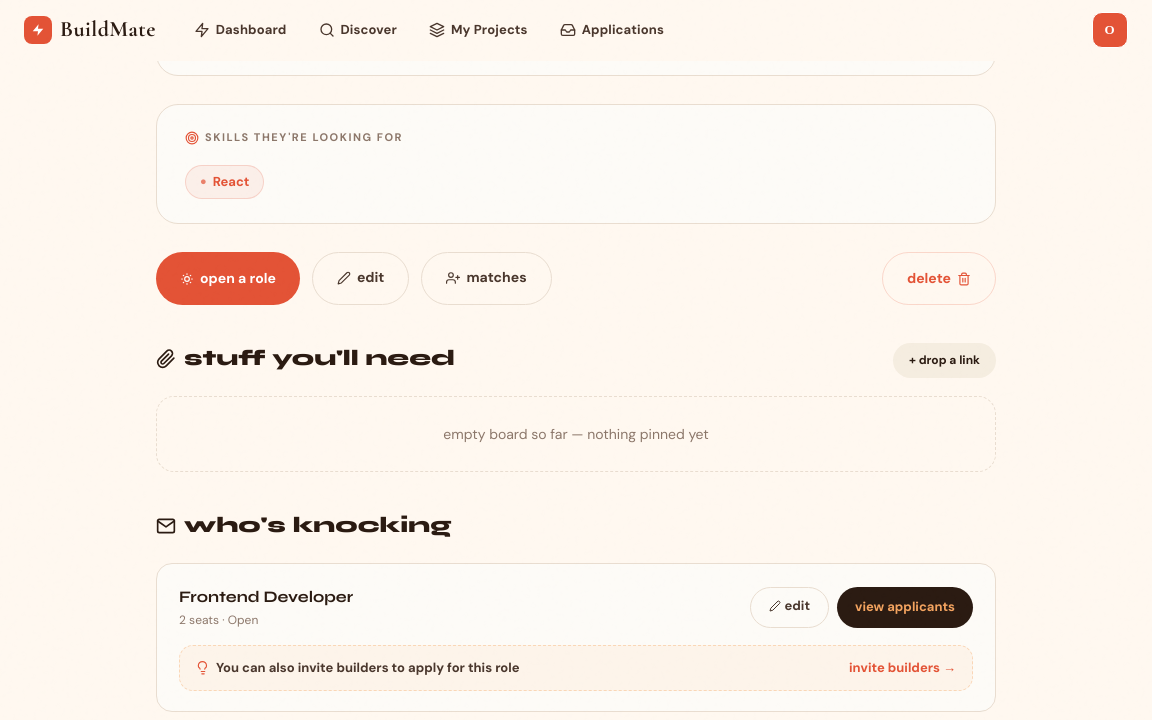
Test: Resource Board › opens add resource form
The image size is (1152, 720).
(page scrolled)
Click the button "+ drop a link": x=944, y=360 [893,343,996,378]
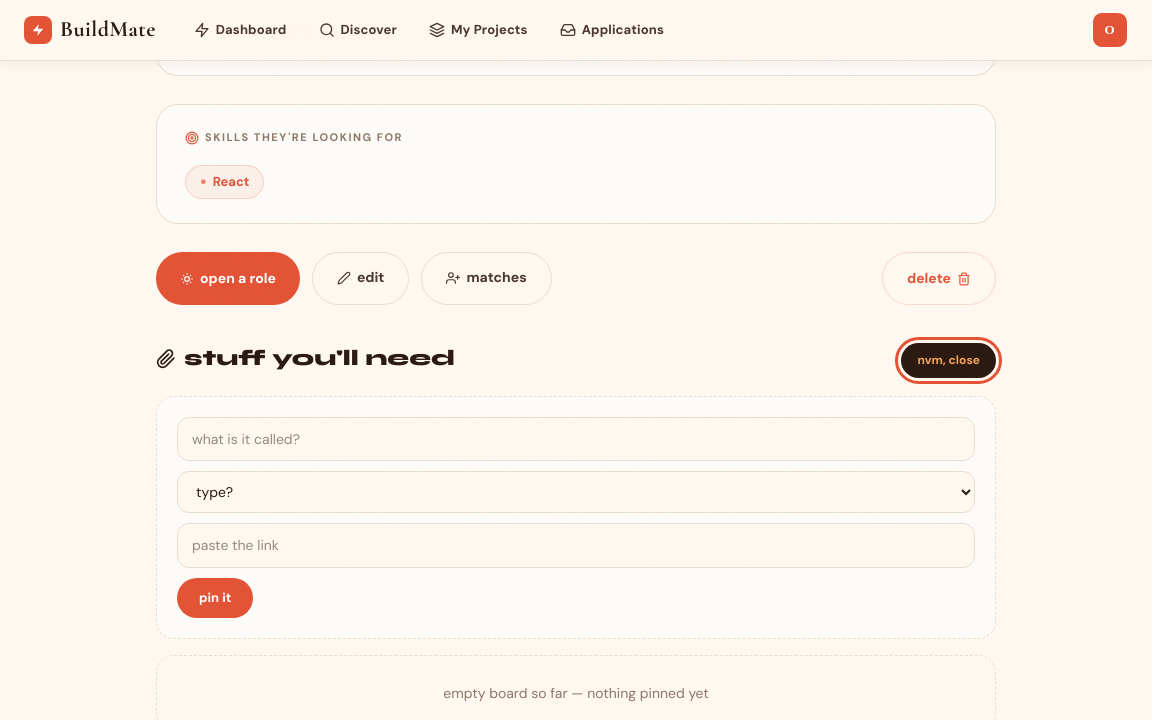
Now the field with placeholder "what is it called?" is shown, box [177,417,975,461]
Now the field with placeholder "paste the link" is shown, box [177,523,975,568]
